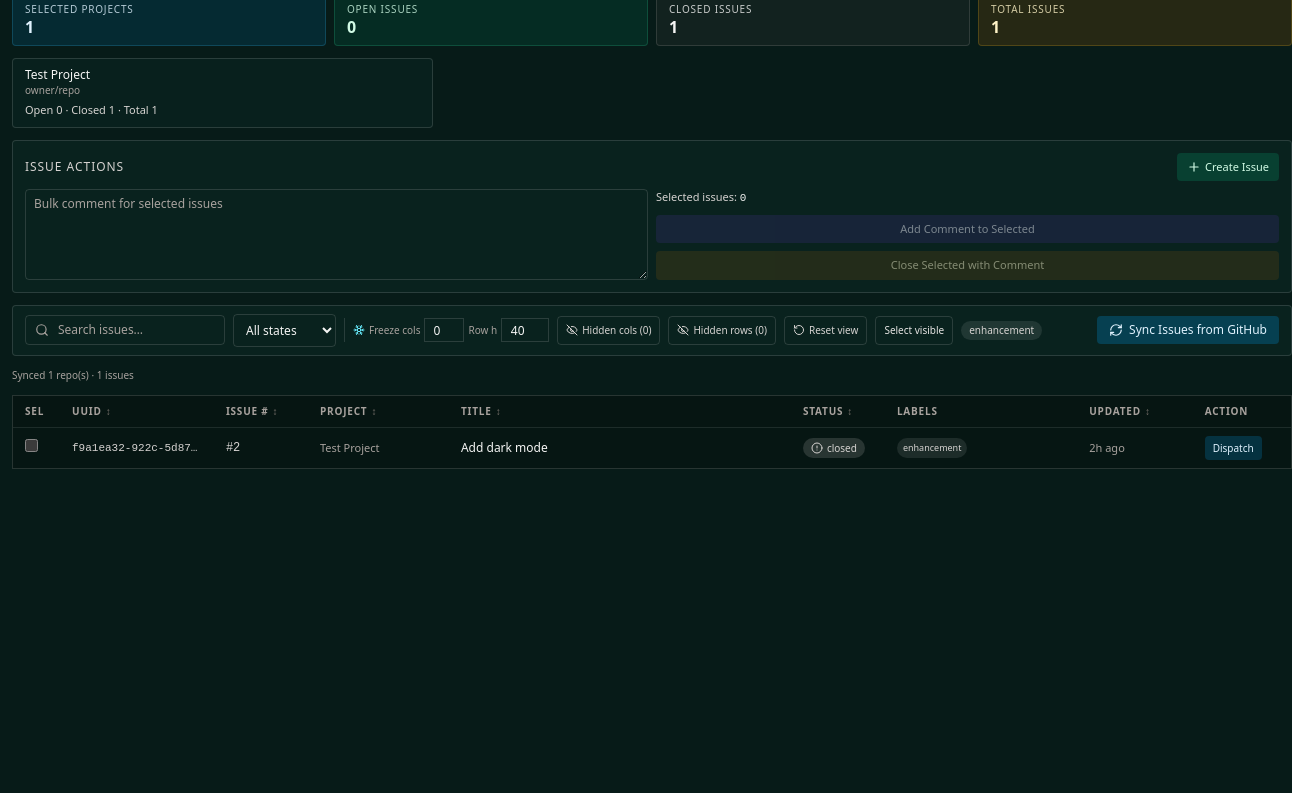
Test case: IssuesTab › reopen button is enabled for closed issue in detail
Click the text "#2": (229, 448) [226, 441, 240, 455]
(page scrolled)
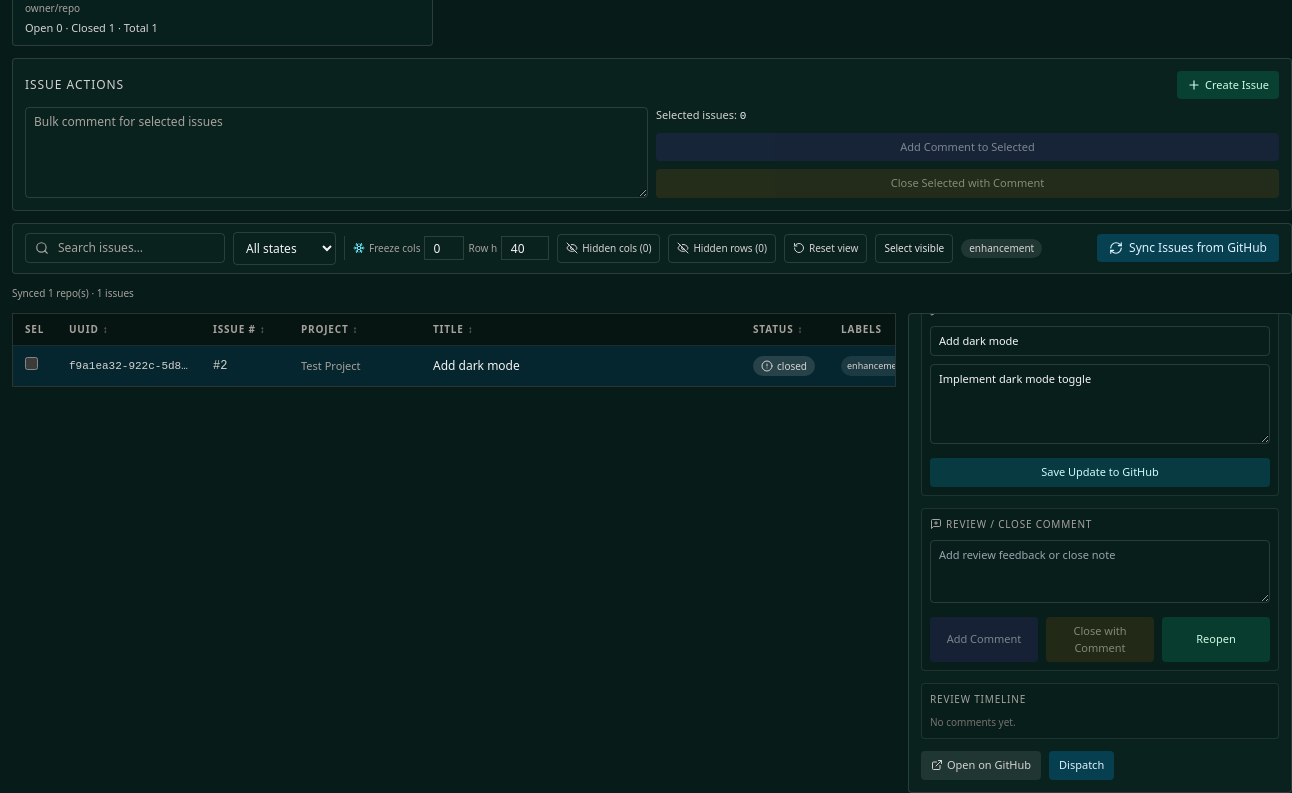
Check: the button "Reopen" is enabled, box [1162, 617, 1270, 662]
Check: the button "Close with Comment" is disabled, box [1046, 617, 1154, 662]
